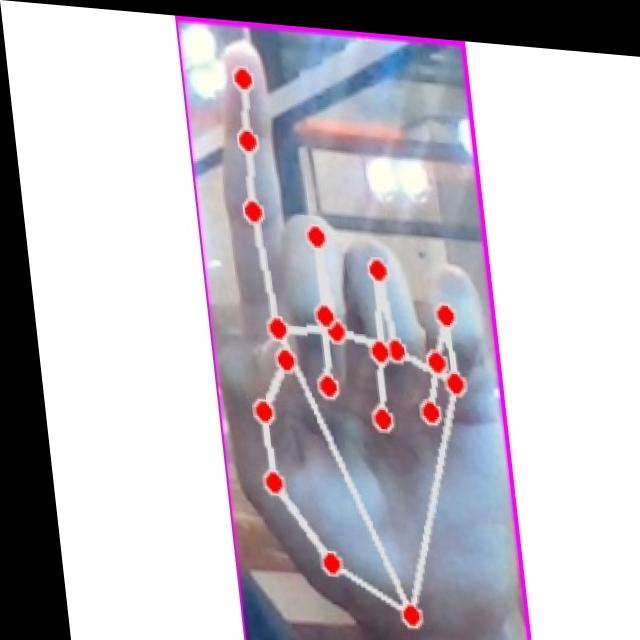D: (185, 30, 507, 640)
